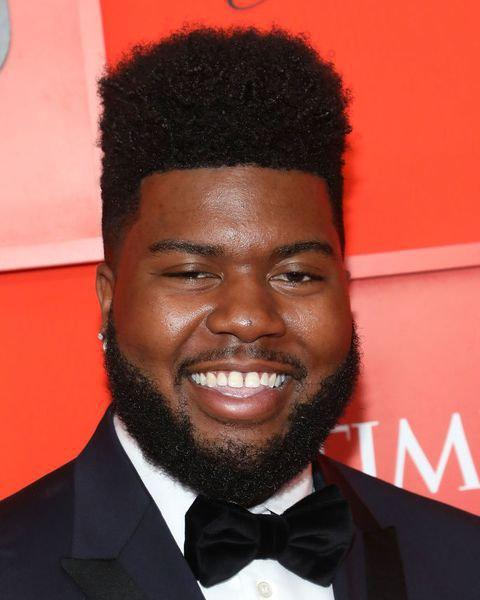Sober: (122, 165, 344, 473)
